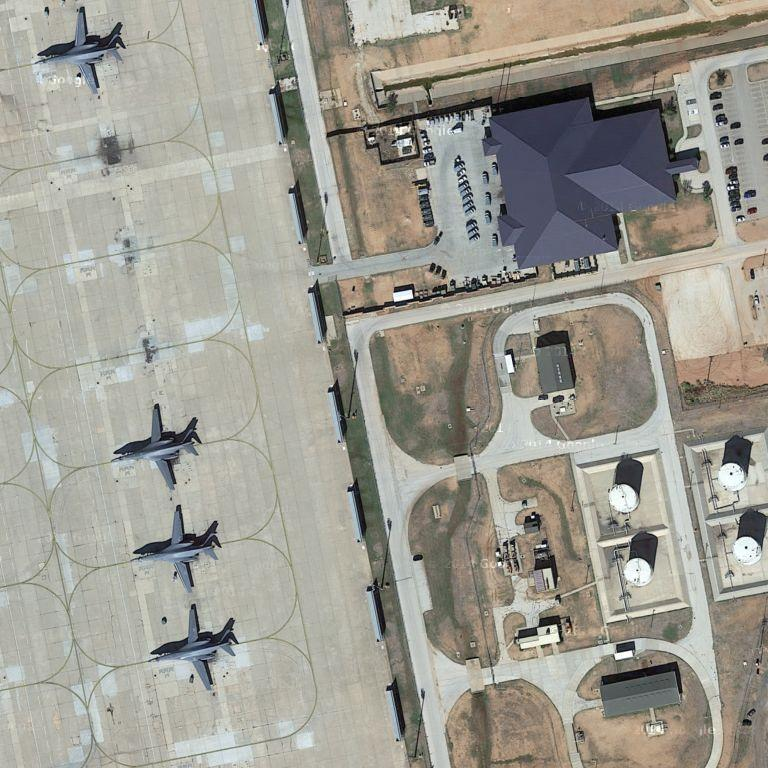B-1B: (125, 500, 227, 594), (144, 601, 243, 693), (32, 6, 130, 95), (106, 401, 202, 489)
